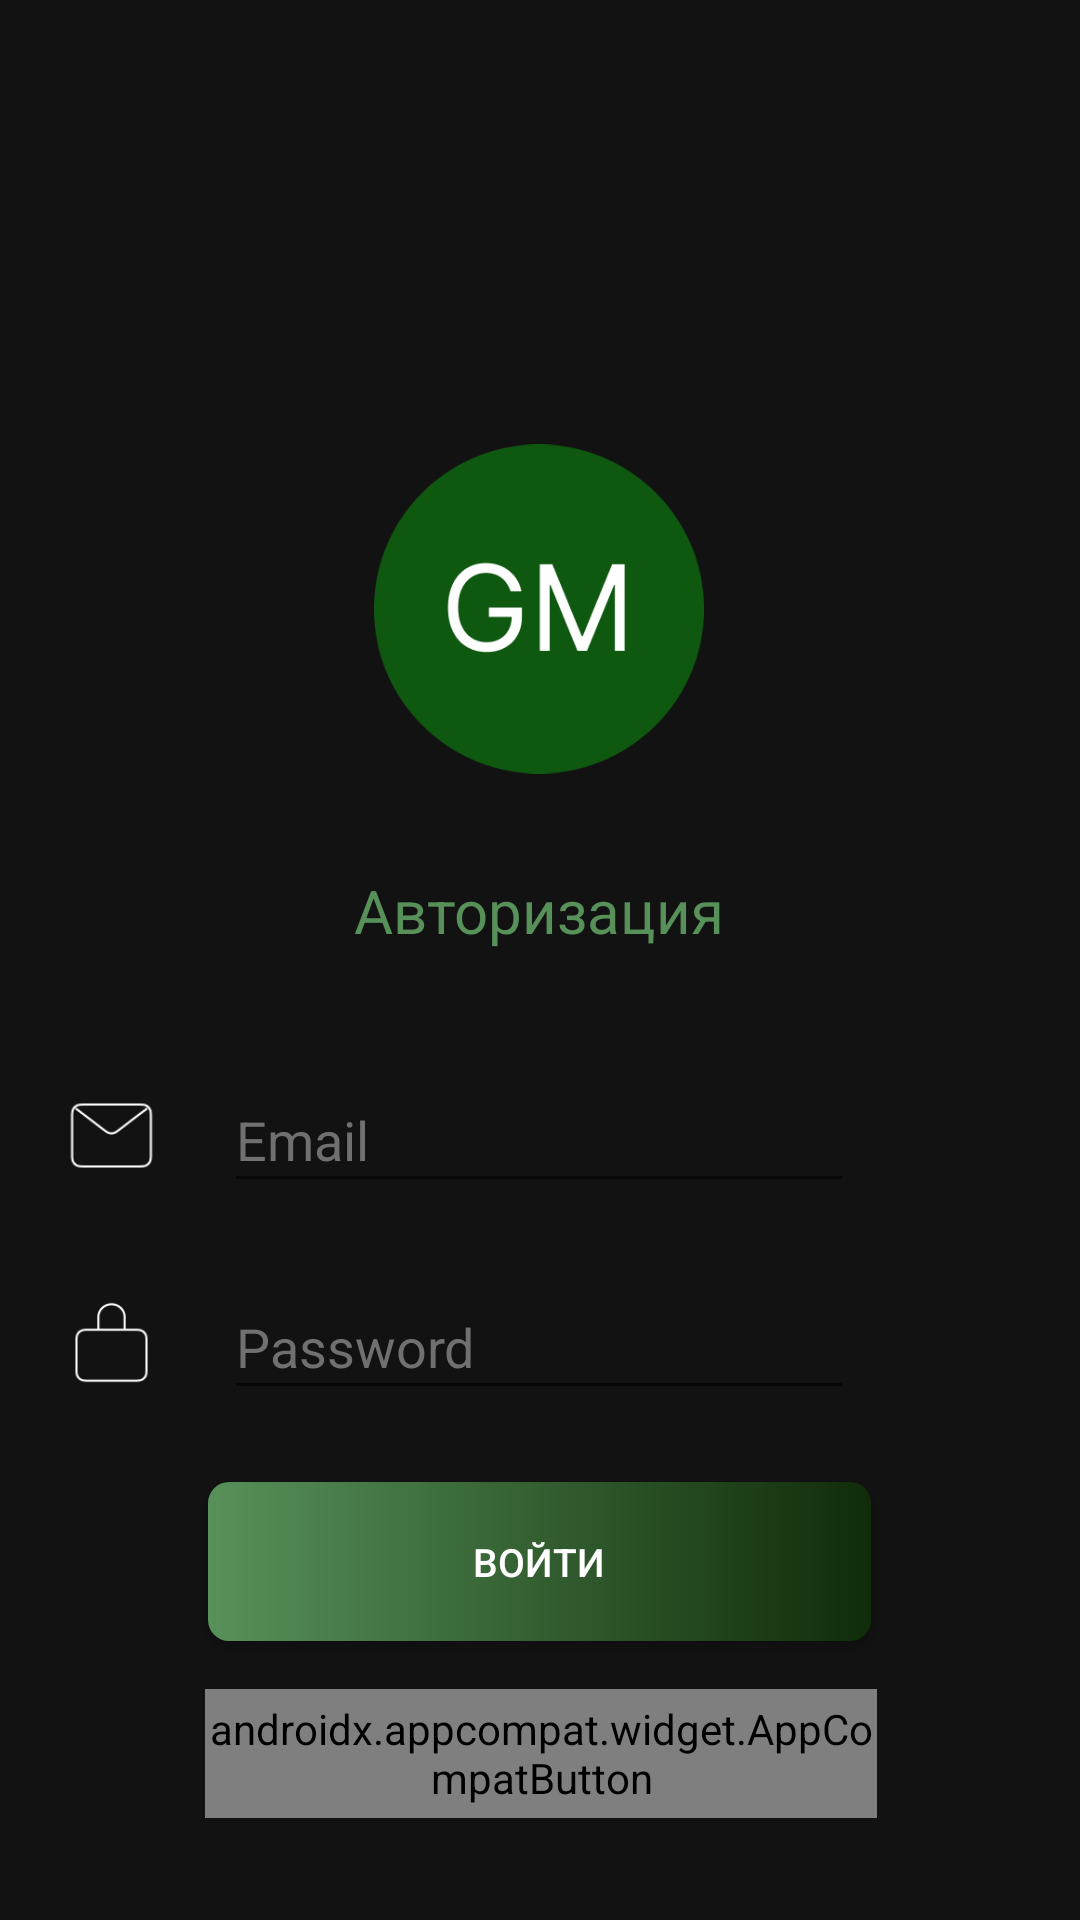

Icon bounding boxes for this 1080px x 1920px phone screenshot, format [x1=x1, y1=y1, x2=x2, y2=y2]:
lock: [x1=75, y1=1303, x2=148, y2=1382]
